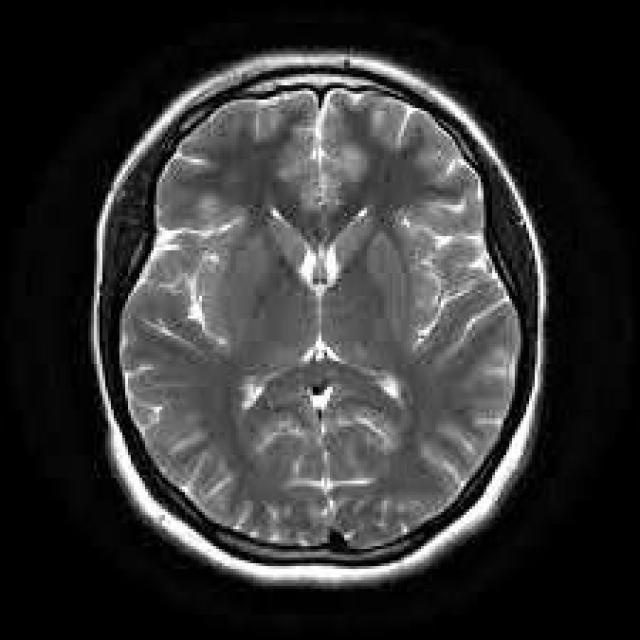No_Tumor: (91, 51, 543, 584)
